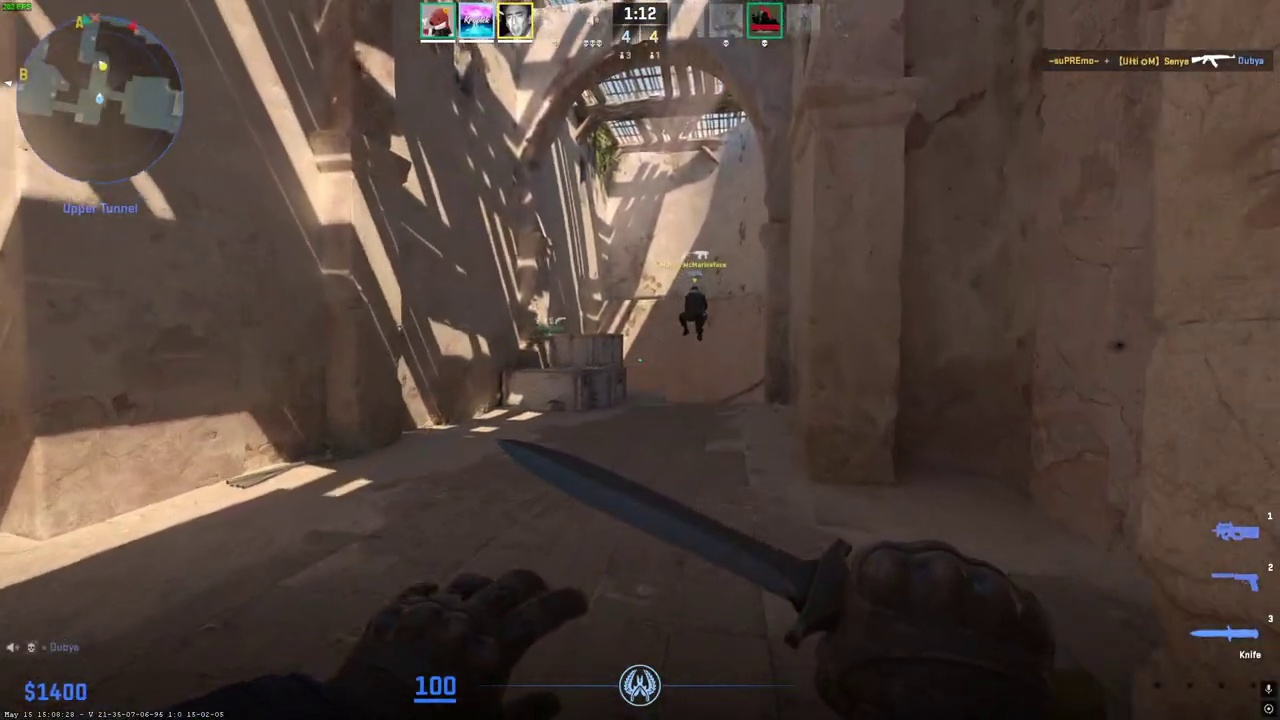CT: (680, 286, 707, 342)
